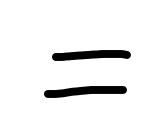eqv: (44, 50, 131, 99)
